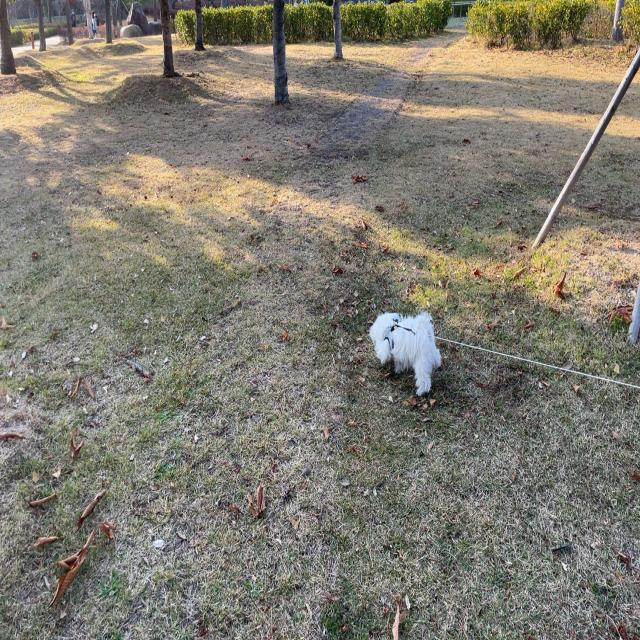Dog: (368, 308, 442, 398)
